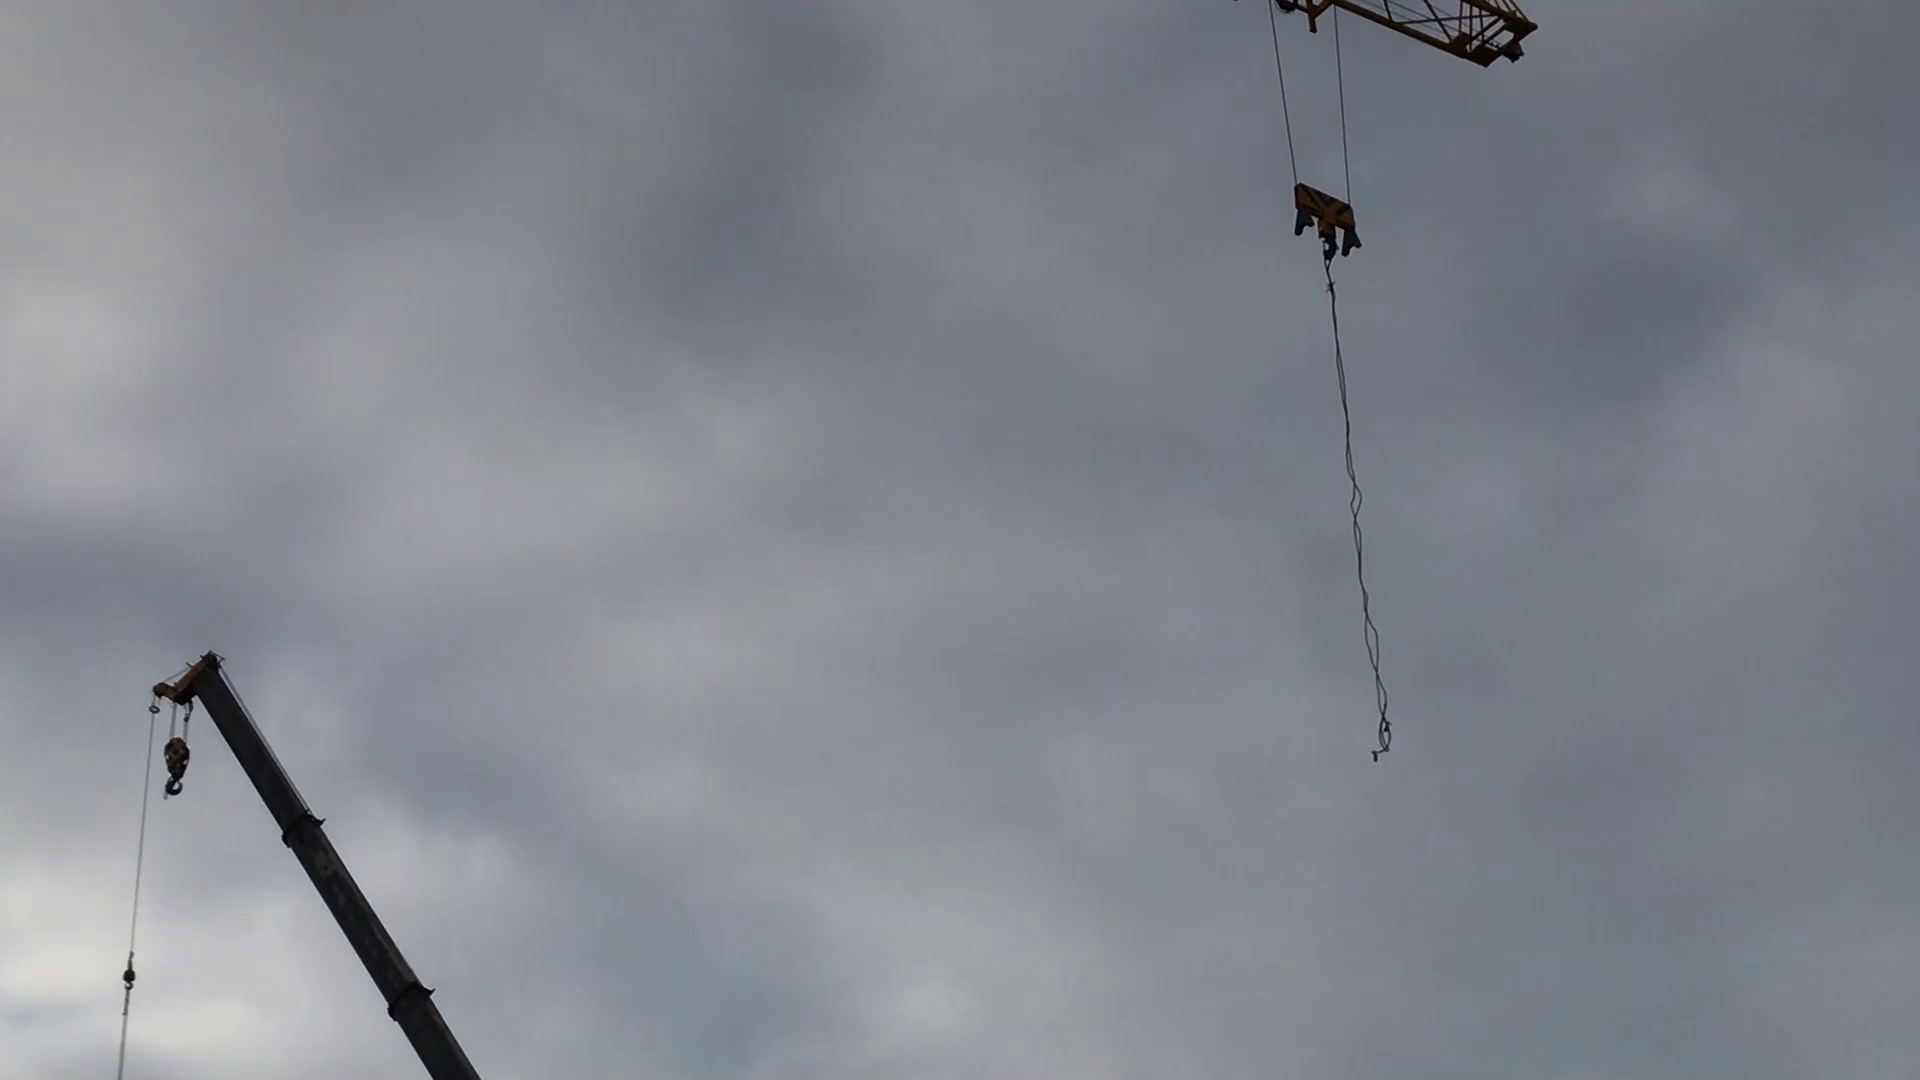hook: (1276, 169, 1364, 270)
